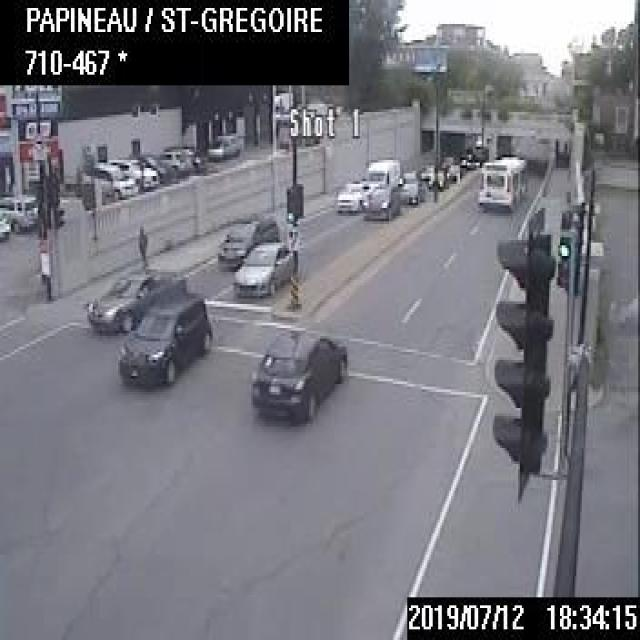bus: (476, 152, 524, 213)
pedestrian: (135, 221, 147, 267)
vehicle: (249, 325, 347, 419), (115, 297, 212, 387), (84, 264, 188, 329), (230, 242, 296, 299), (216, 212, 276, 269), (83, 160, 137, 200), (110, 156, 158, 189), (363, 182, 402, 218), (133, 151, 173, 181), (0, 195, 35, 229), (332, 178, 362, 215), (205, 131, 243, 158), (365, 156, 400, 184), (165, 144, 200, 170), (156, 149, 184, 175), (397, 179, 424, 202), (444, 161, 462, 186), (426, 165, 444, 188), (397, 168, 421, 184), (419, 161, 433, 178)
